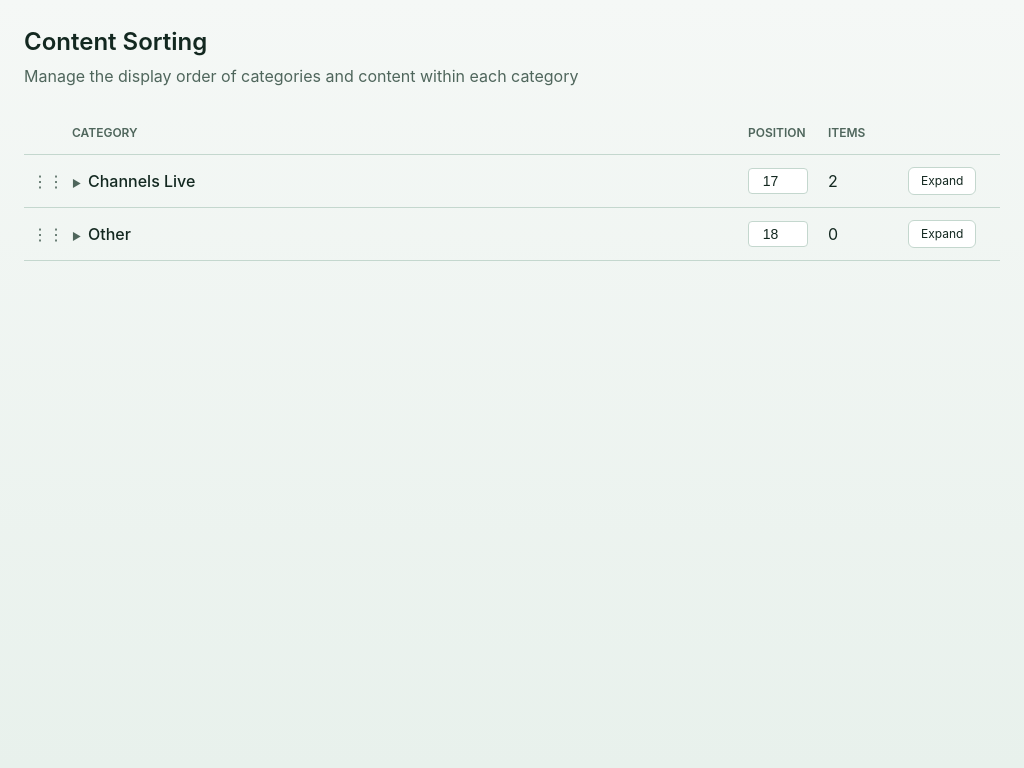
Test: Content Sorting on a live category (spec §8) › offers no playlists for a live category while the live status is still loading
Click the text "Channels Live" at [142, 181], box 88,171 -> 195,191
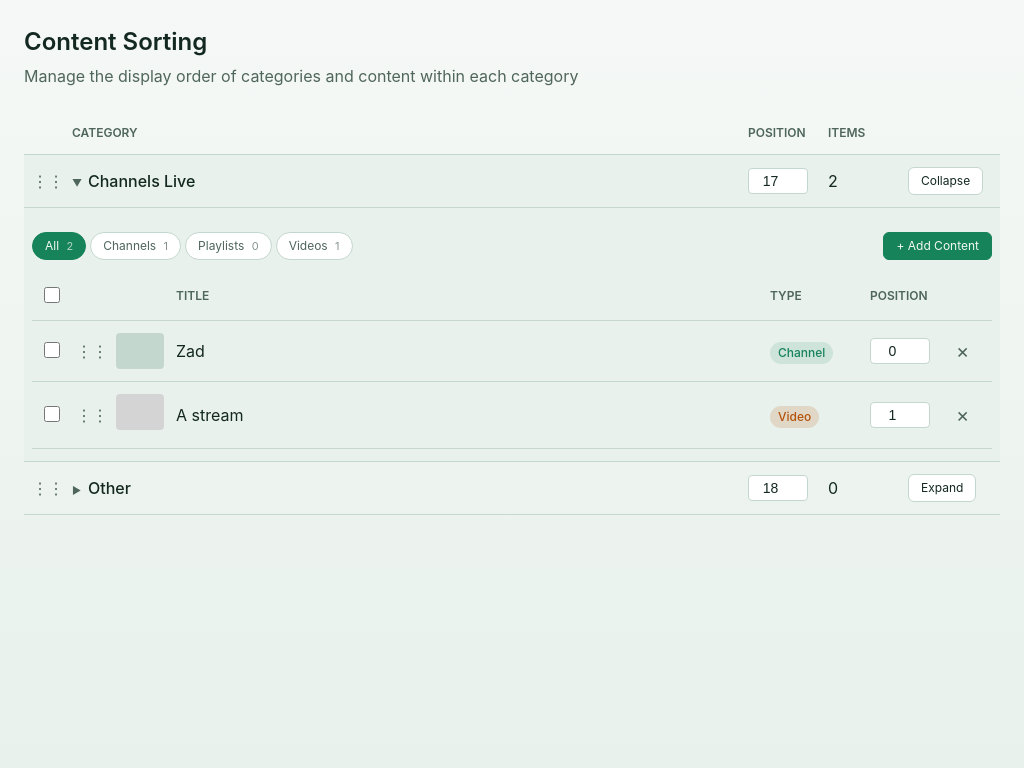
Click the button "+ Add Content" at [938, 246], box 884,232 -> 992,260
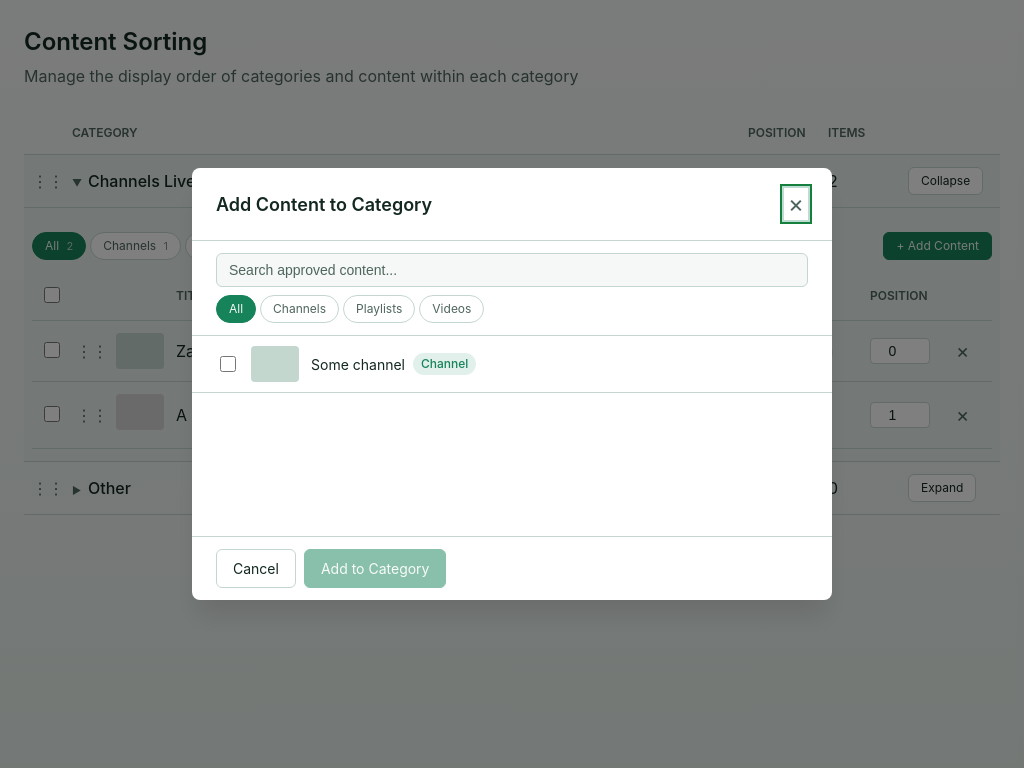
Now the text "Some channel" is shown, box 311,354 -> 405,374
